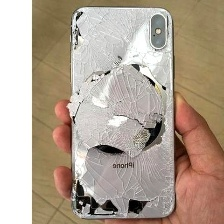phone: (68, 3, 180, 223)
